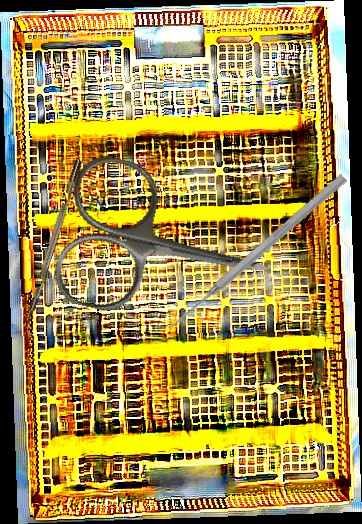Chopper: (19, 159, 91, 338)
Iris Scissors: (47, 150, 286, 345)
Pusher: (165, 171, 349, 334)
